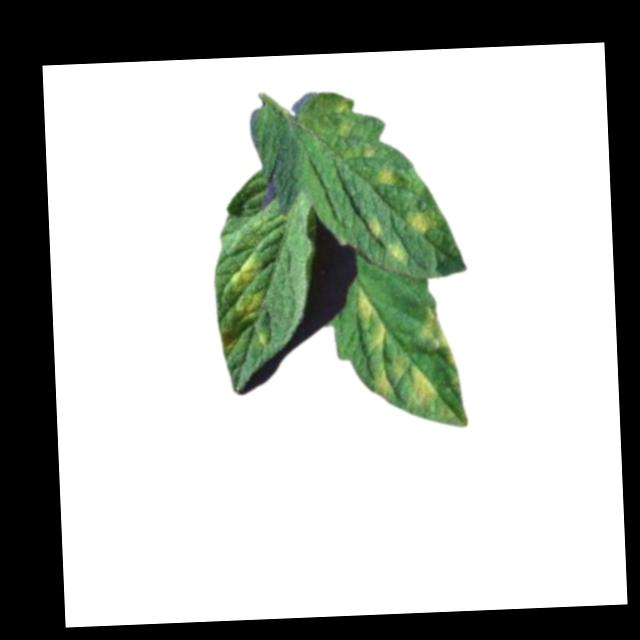Leaf_Mold: (373, 359, 436, 407), (416, 305, 459, 366), (231, 255, 265, 325), (356, 288, 386, 348), (370, 164, 400, 191), (405, 208, 427, 234), (386, 242, 409, 263), (365, 218, 380, 241)
